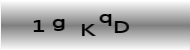1: (31, 19, 45, 33)
D: (114, 20, 129, 34)
K: (81, 22, 96, 37)
g: (51, 17, 65, 31)
q: (98, 12, 112, 27)
